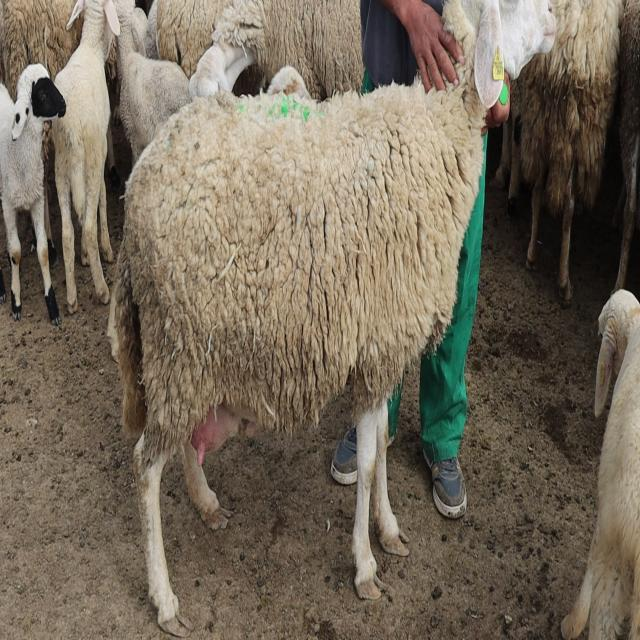Score_2: (108, 0, 556, 636)
